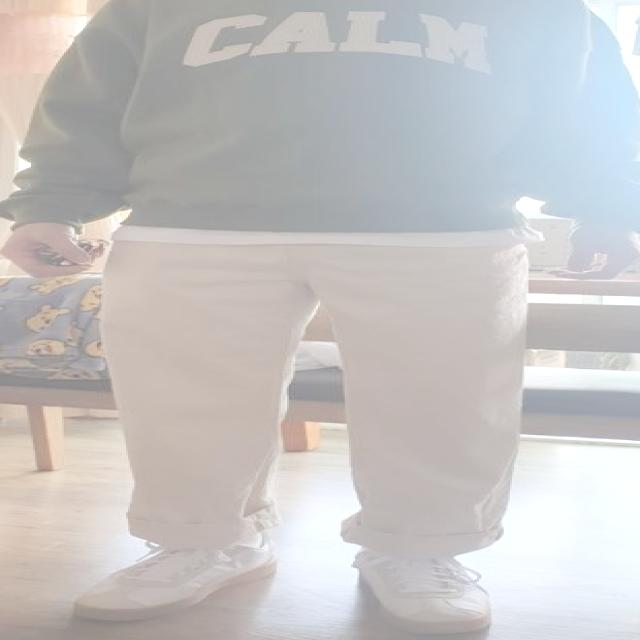cottonpants: (93, 234, 535, 560)
mtm: (0, 0, 640, 232)
